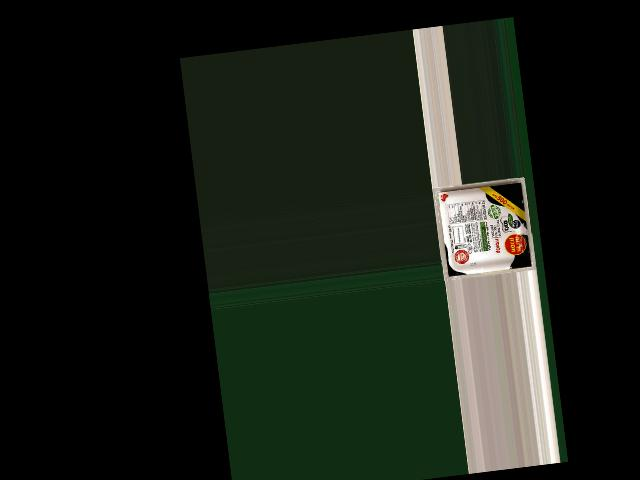cheese: (439, 178, 529, 277)
